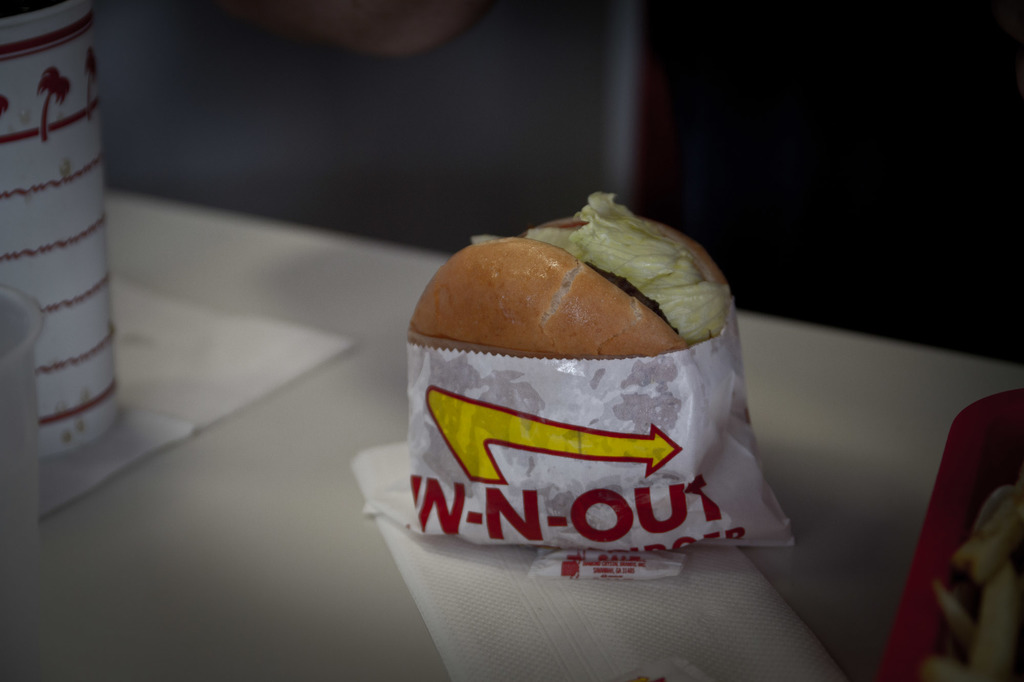Hamburger: (408, 193, 728, 358)
